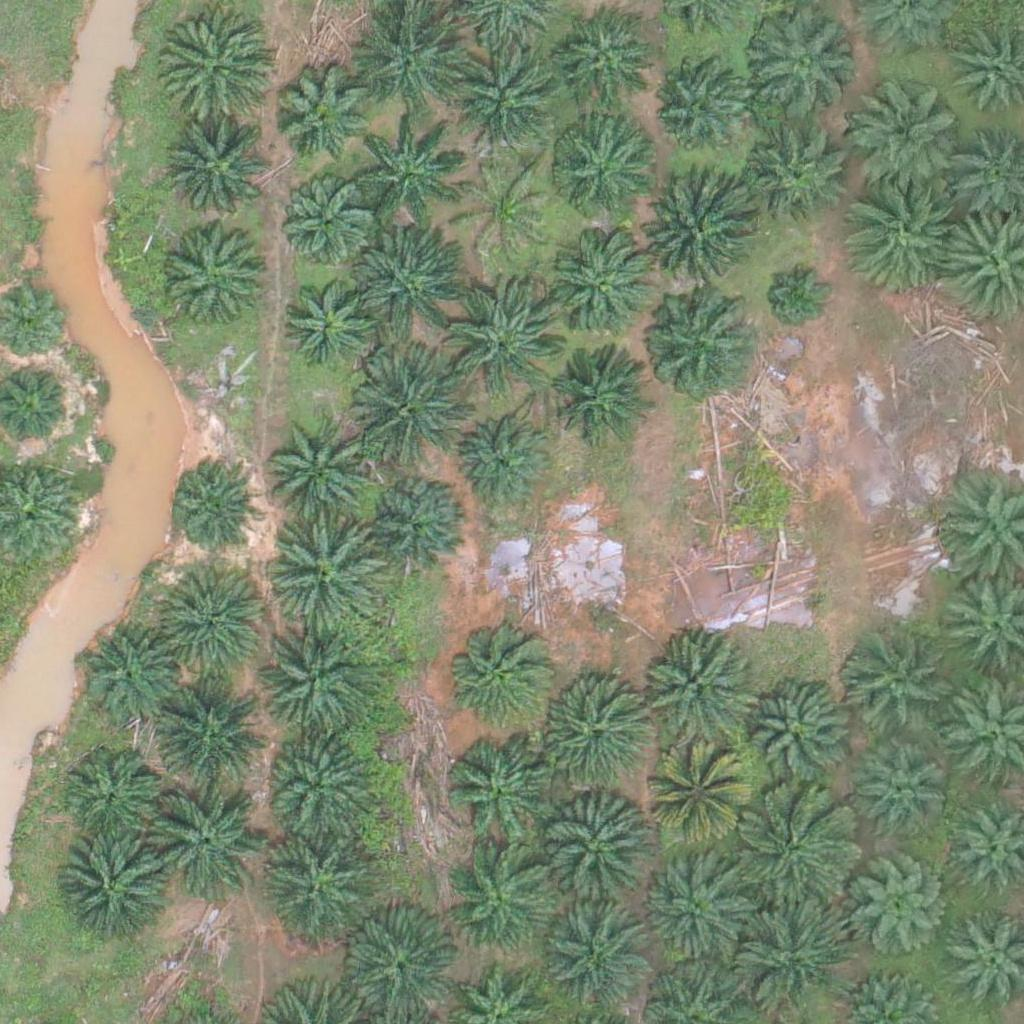Kelapa_Sawit: (266, 724, 379, 838), (354, 352, 467, 466), (257, 629, 370, 743), (155, 565, 268, 679), (734, 902, 847, 1015), (738, 790, 851, 903), (541, 797, 654, 910), (443, 739, 556, 852), (54, 836, 167, 949), (845, 67, 958, 180), (837, 181, 950, 294), (737, 678, 850, 791), (742, 8, 855, 121), (641, 177, 754, 290), (355, 226, 468, 339), (157, 7, 270, 120), (446, 844, 558, 958), (549, 227, 661, 341), (451, 51, 563, 165), (444, 616, 556, 730), (154, 673, 266, 787), (164, 116, 276, 230), (258, 827, 370, 940), (146, 784, 258, 897), (837, 629, 949, 742), (640, 635, 752, 748), (530, 679, 642, 792), (643, 293, 755, 406), (447, 282, 559, 395), (352, 113, 464, 226), (268, 406, 380, 519), (272, 520, 384, 633), (639, 856, 739, 957), (547, 913, 647, 1014), (61, 746, 161, 847), (751, 127, 851, 228), (648, 59, 748, 160), (457, 155, 557, 256), (364, 473, 464, 574), (274, 173, 374, 274), (278, 269, 378, 370), (167, 225, 267, 326), (80, 626, 180, 727), (844, 862, 944, 962), (645, 750, 745, 850), (550, 346, 650, 446), (554, 17, 654, 117), (547, 118, 647, 218), (453, 419, 553, 519), (271, 66, 371, 166), (857, 752, 944, 840), (168, 459, 255, 547), (761, 256, 836, 331)
